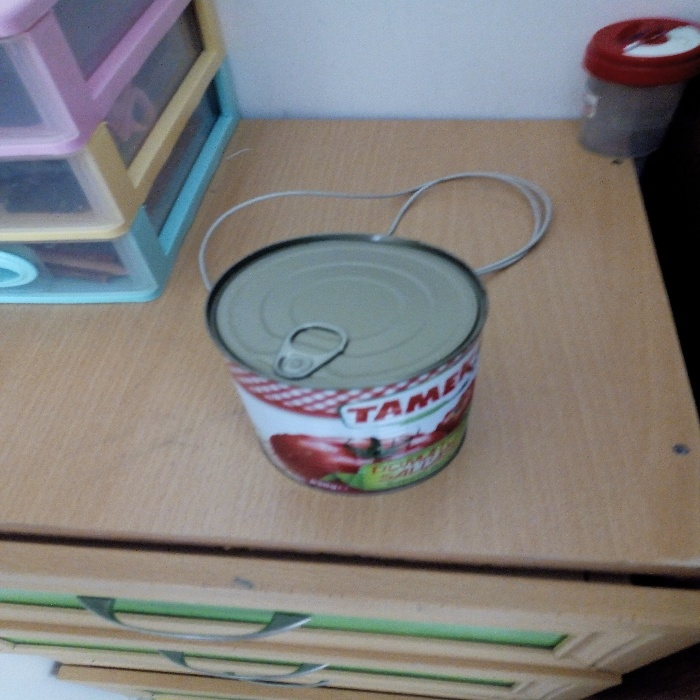salca: (196, 208, 503, 508)
